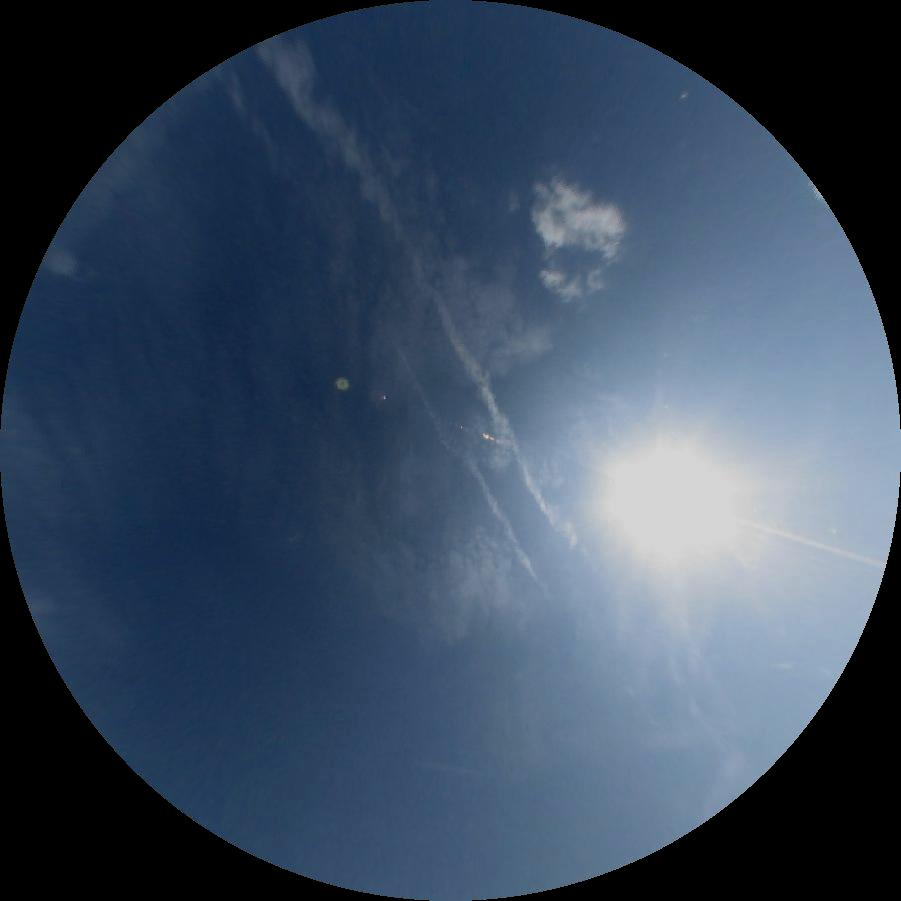contrail veryold: (255, 24, 604, 553), (382, 341, 548, 582)
contrail young: (415, 762, 477, 774)
parasite: (746, 510, 888, 561)
sun: (601, 418, 764, 577)
